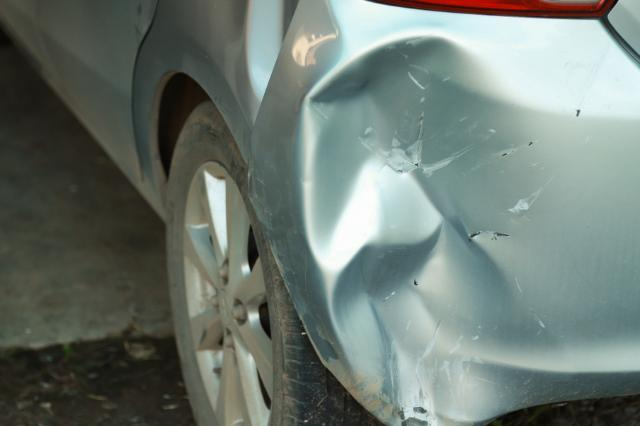Bumper: (246, 0, 640, 426)
Fender: (198, 0, 305, 166)
